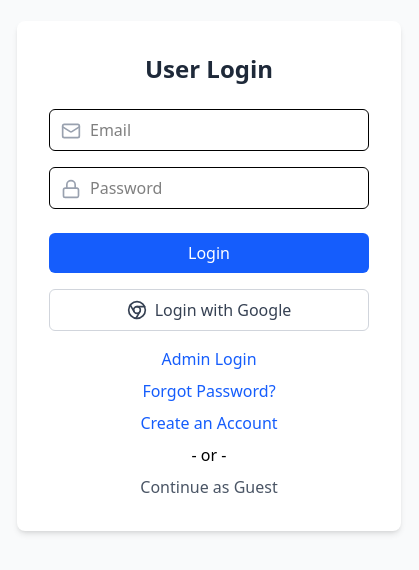
Test: UserLogin Component › handles login error with server message
expect the text "Invalid credentials" is not shown: met
Step 1. Type "test@example.com" into the field with placeholder "Email" → [209, 130], box top-left (49, 109), bottom-right (369, 151)
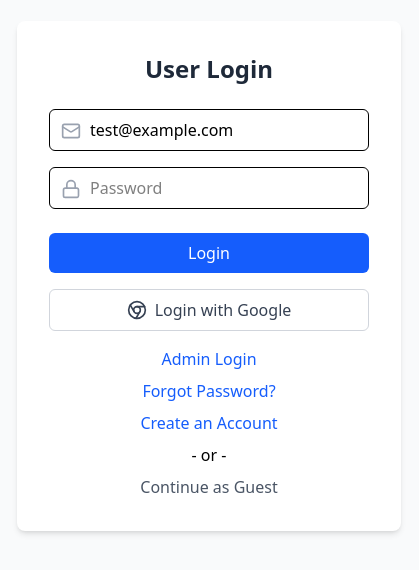
Step 2. Type "wrong-password" into the password field with placeholder "Password" → [209, 188], box top-left (49, 167), bottom-right (369, 209)
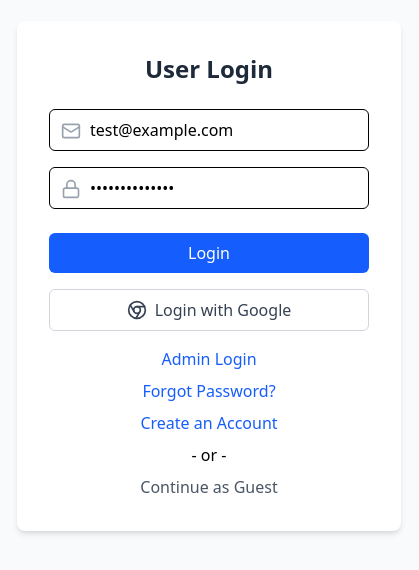
Step 3. Click the button "Login" → [209, 253], box top-left (49, 233), bottom-right (369, 273)
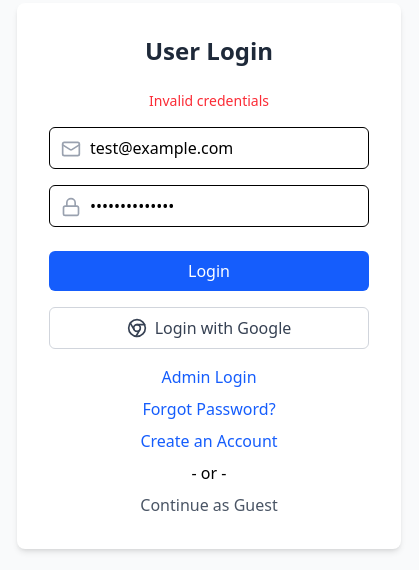
expect the text "Invalid credentials" is shown: met, box top-left (149, 91), bottom-right (269, 110)
